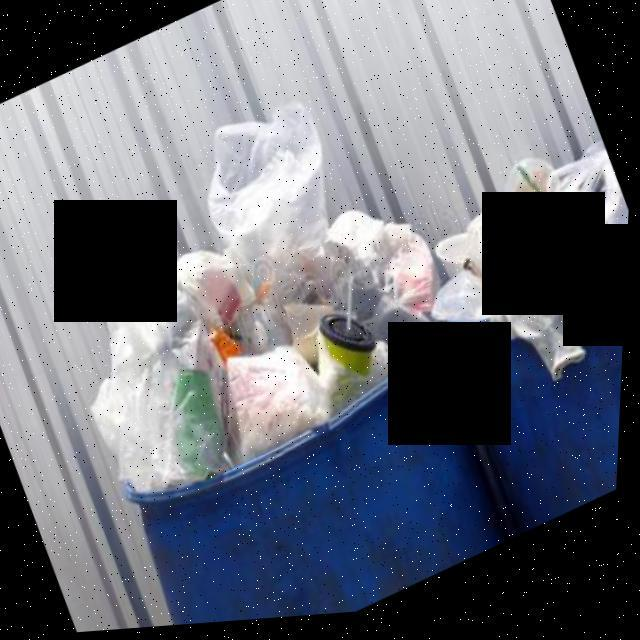bin: (105, 324, 526, 633), (425, 228, 631, 551)
plastic: (93, 119, 616, 395)
